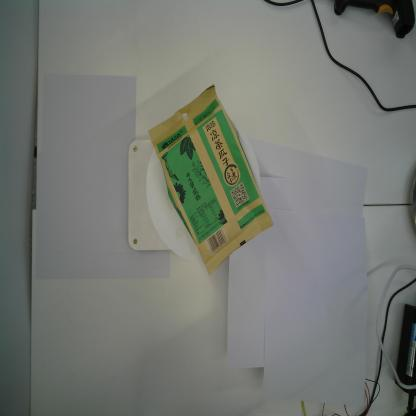Dried Food: (146, 82, 274, 280)
